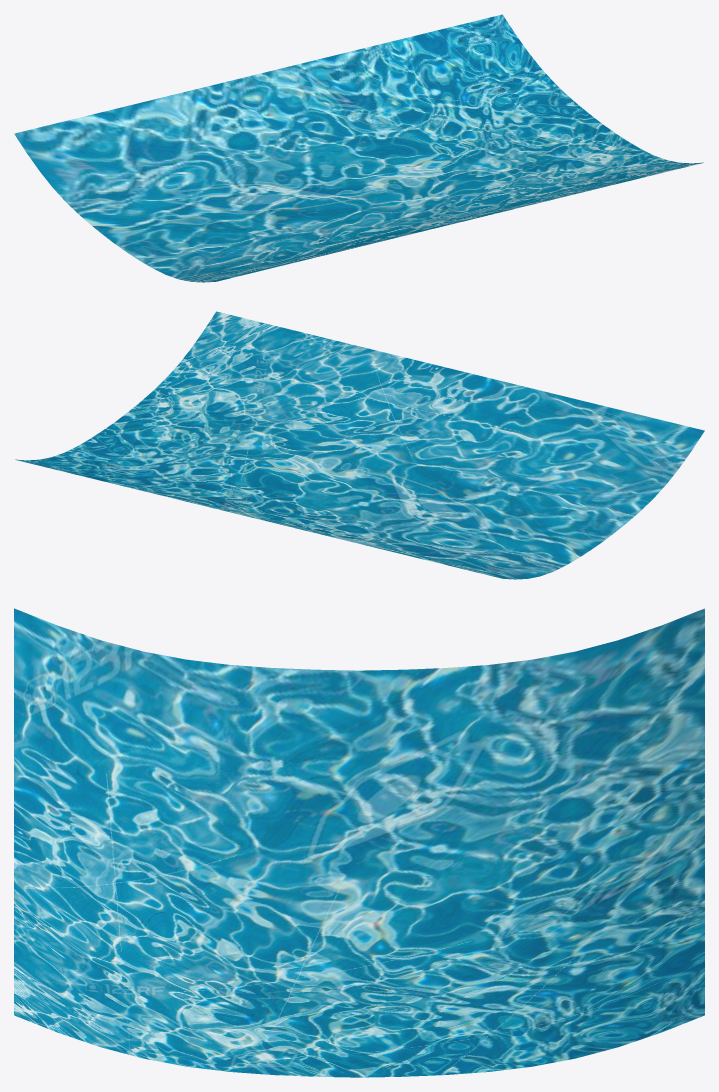
The model's file is Olas6.obj.
3 renders of one model, top to bottom at view 1: azimuth 30°, elevation 25°; view 2: azimuth 150°, elevation 25°; view 3: azimuth 270°, elevation 25°, orthographic. The views are drawn at different scales.
Parts seen in each view (by area): view 1: Plane; view 2: Plane; view 3: Plane.
Part boxes in pixels (box(x1,y1,x2,y2)): Plane: box(14, 14, 703, 282); Plane: box(15, 311, 704, 579); Plane: box(14, 608, 704, 1077).
Bounding box in the file's own units: 13.82 × 0.986 × 9.91.
